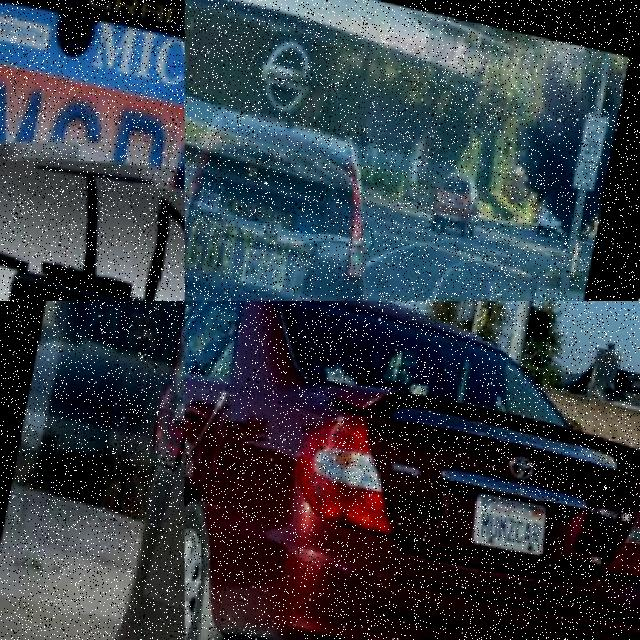licenseplate: (0, 0, 185, 300), (470, 489, 546, 552), (239, 245, 287, 290), (447, 194, 455, 200)
